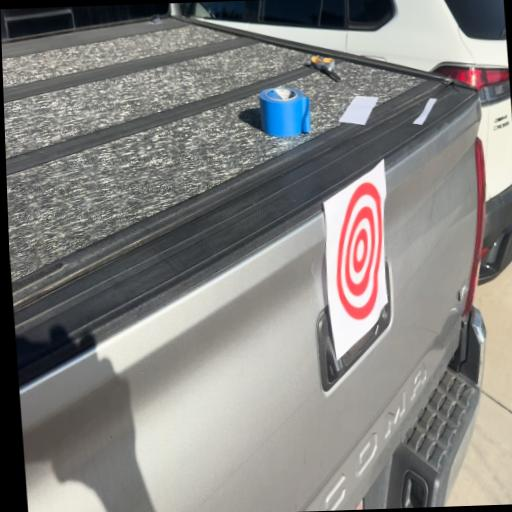bullseye: (324, 160, 387, 352)
